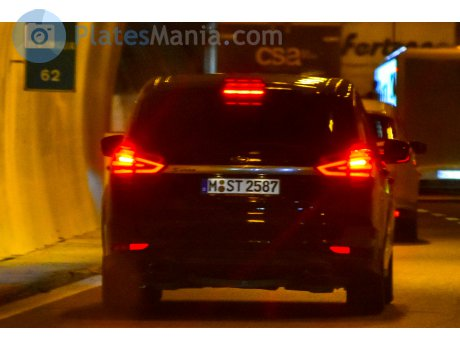License Plates: (207, 177, 281, 190)
